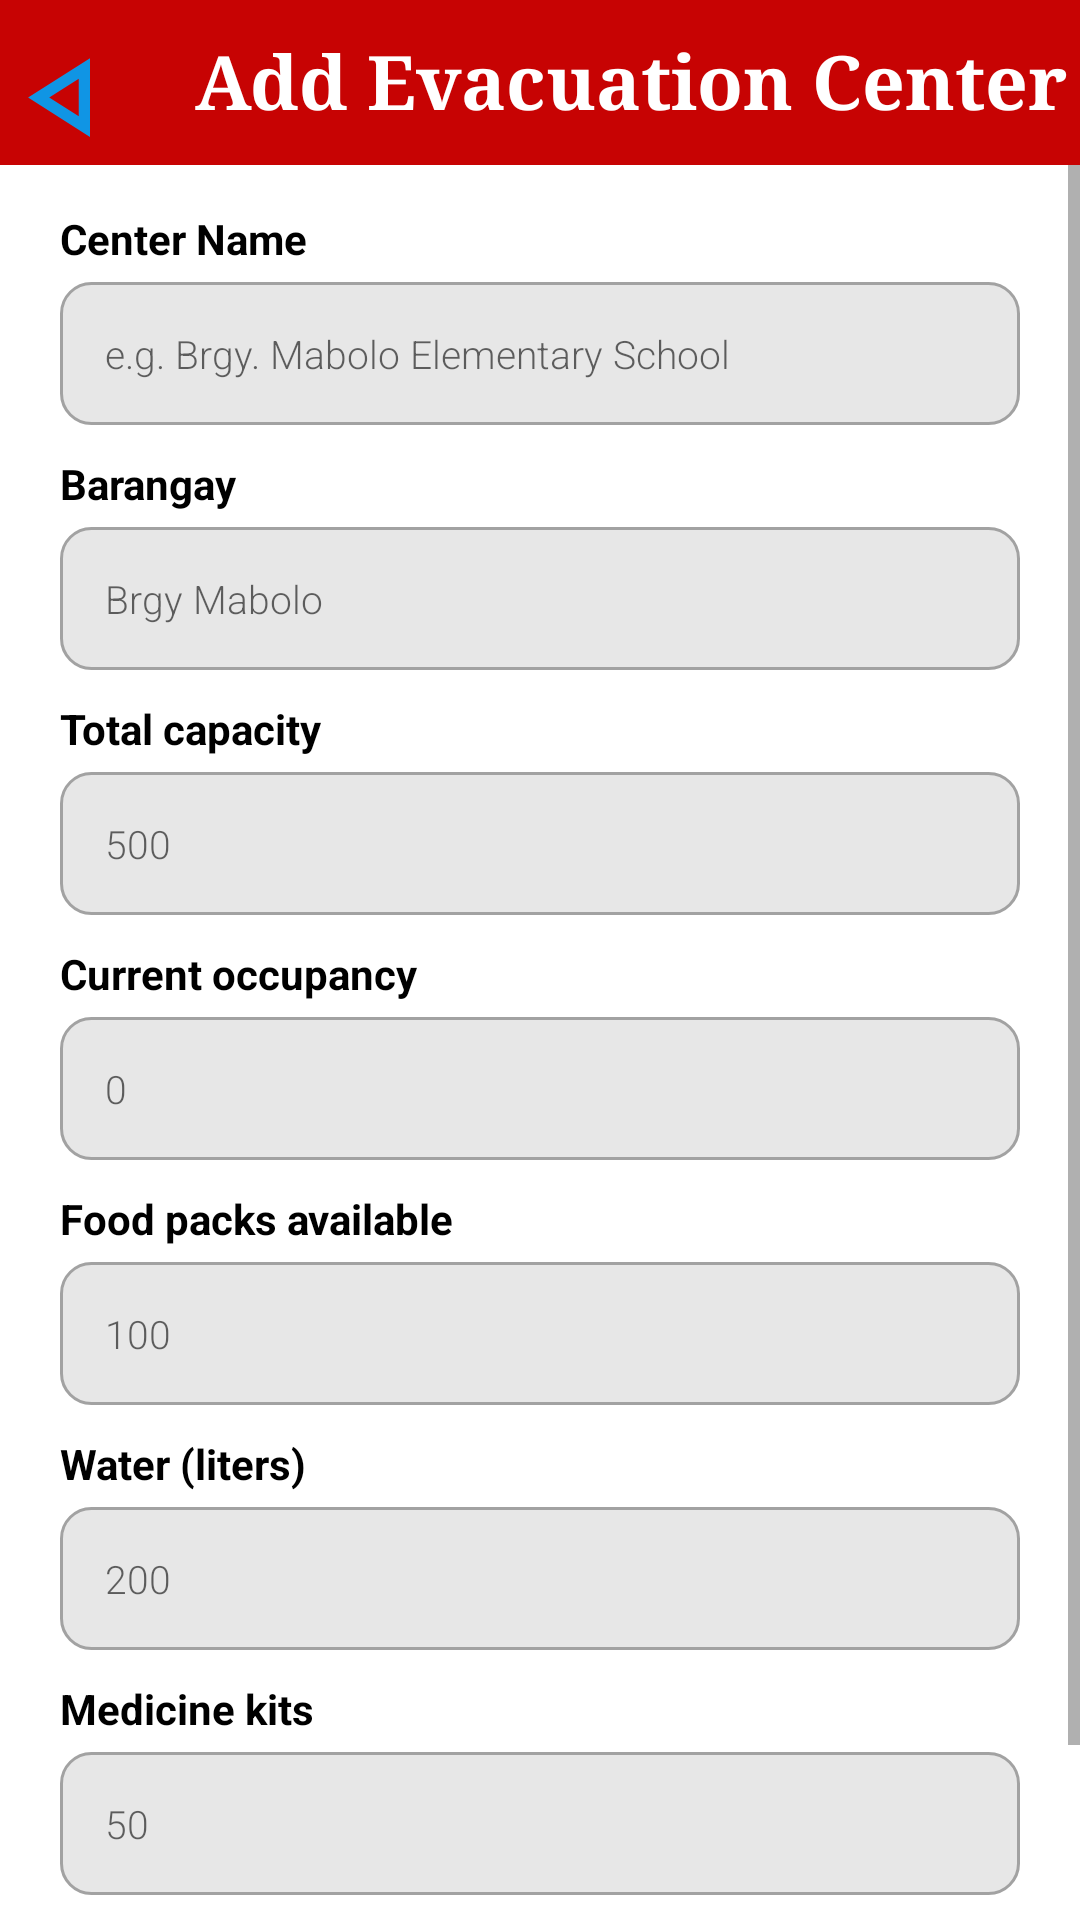

Where to tap for icons on this 1080 × 1920 app screen, as [x,y]:
back: [59,97]
